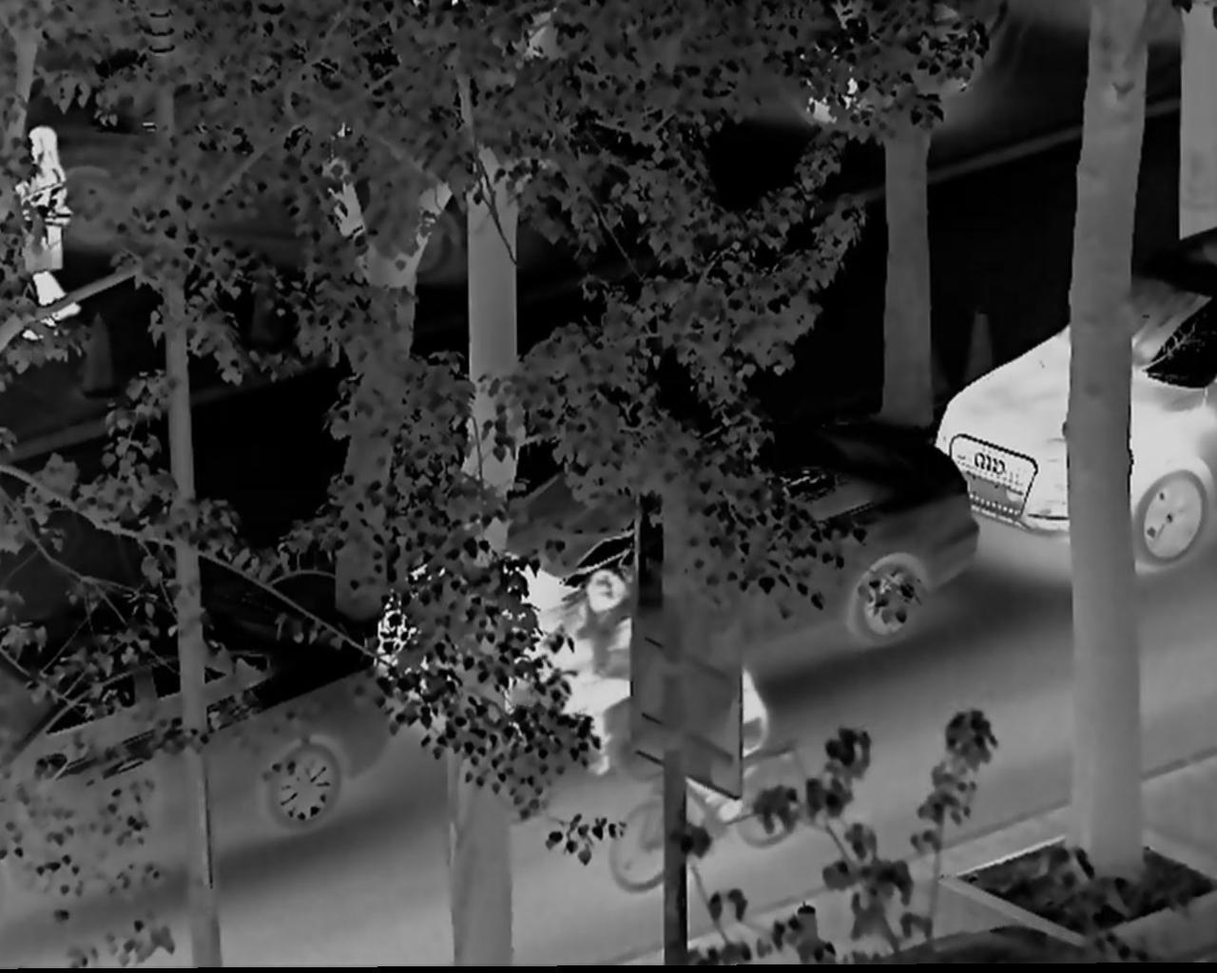person: (535, 562, 645, 758), (12, 114, 91, 355)
